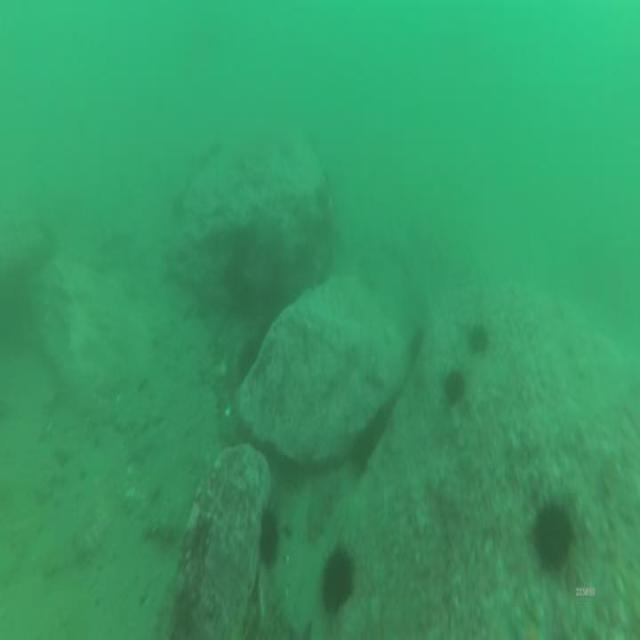echinus: (532, 500, 572, 576), (322, 552, 350, 613), (260, 510, 282, 561), (443, 372, 462, 402), (469, 324, 486, 354)
